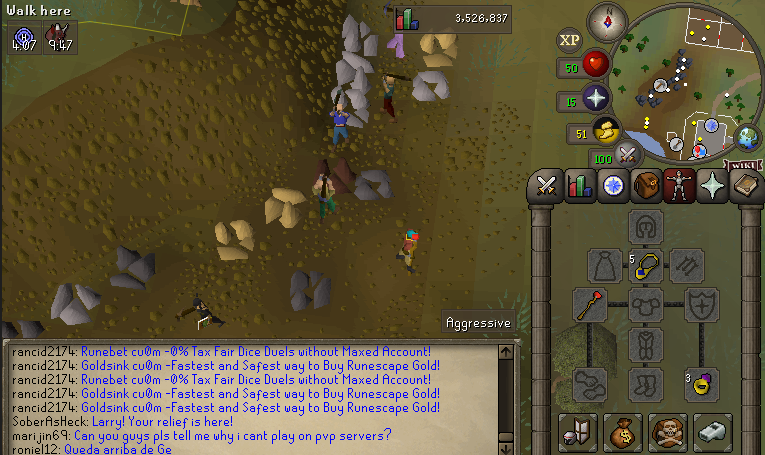depleted: (278, 270, 338, 315), (112, 245, 159, 293), (356, 165, 395, 207), (2, 315, 46, 342)
iron: (312, 155, 359, 199)
